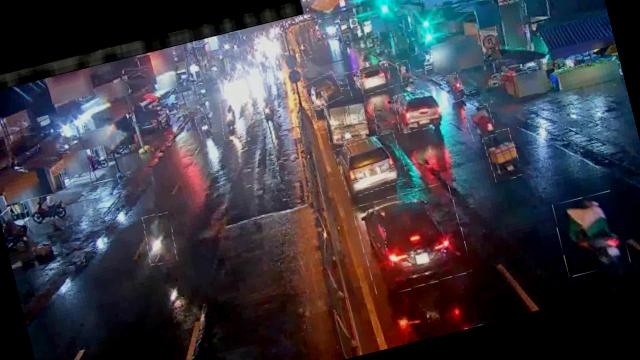Bike: (551, 190, 631, 278), (482, 128, 522, 182), (140, 212, 179, 266), (22, 194, 59, 228), (216, 97, 243, 141), (465, 104, 497, 141), (441, 72, 466, 104), (258, 98, 276, 123), (195, 114, 212, 139), (397, 61, 414, 86)
Car: (352, 181, 473, 297), (334, 132, 410, 198), (392, 86, 444, 134), (345, 62, 394, 98), (301, 71, 344, 110)
Truck: (319, 82, 381, 146)
